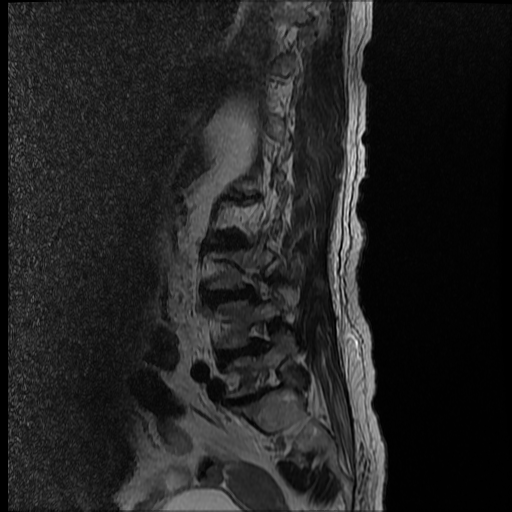LFS0: (237, 314, 281, 357)
